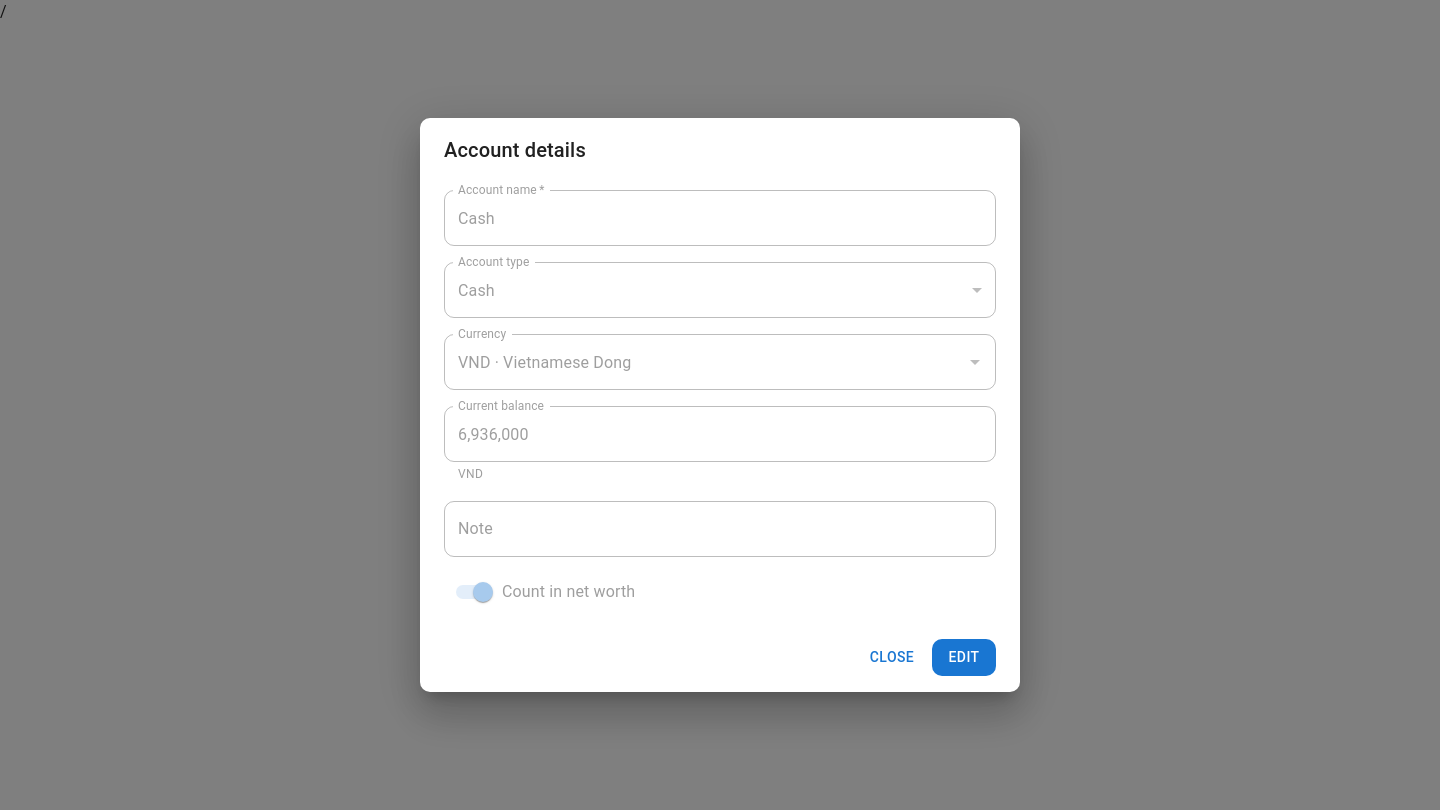
Test: account details (waterflow#23) › Cancel after Edit goes back to the details, as they were
Click the button "Edit": (964, 657) [932,639,996,676]
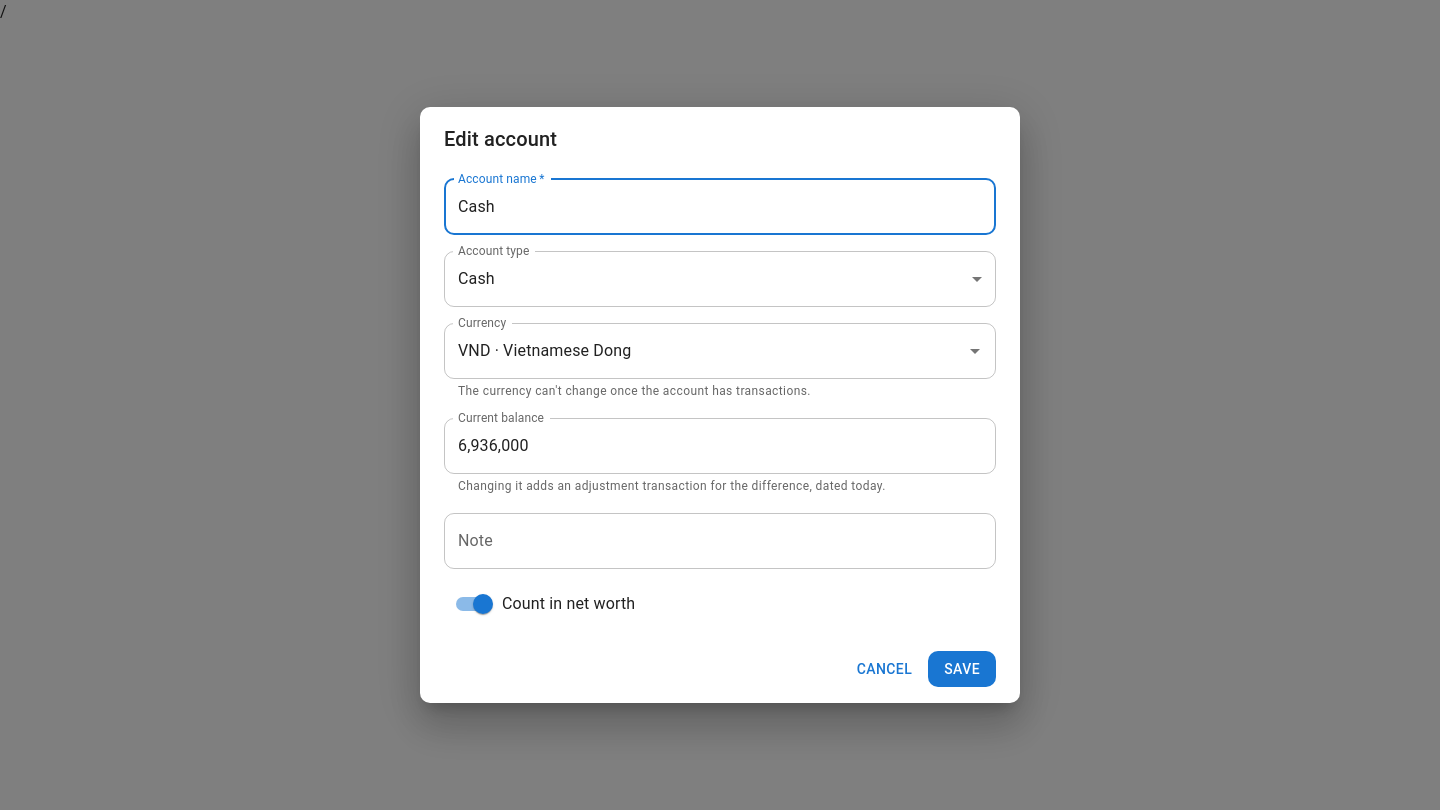
Replace the text in the field labelled "Account name *" with "Wallet": (720, 207) [444,179,996,235]
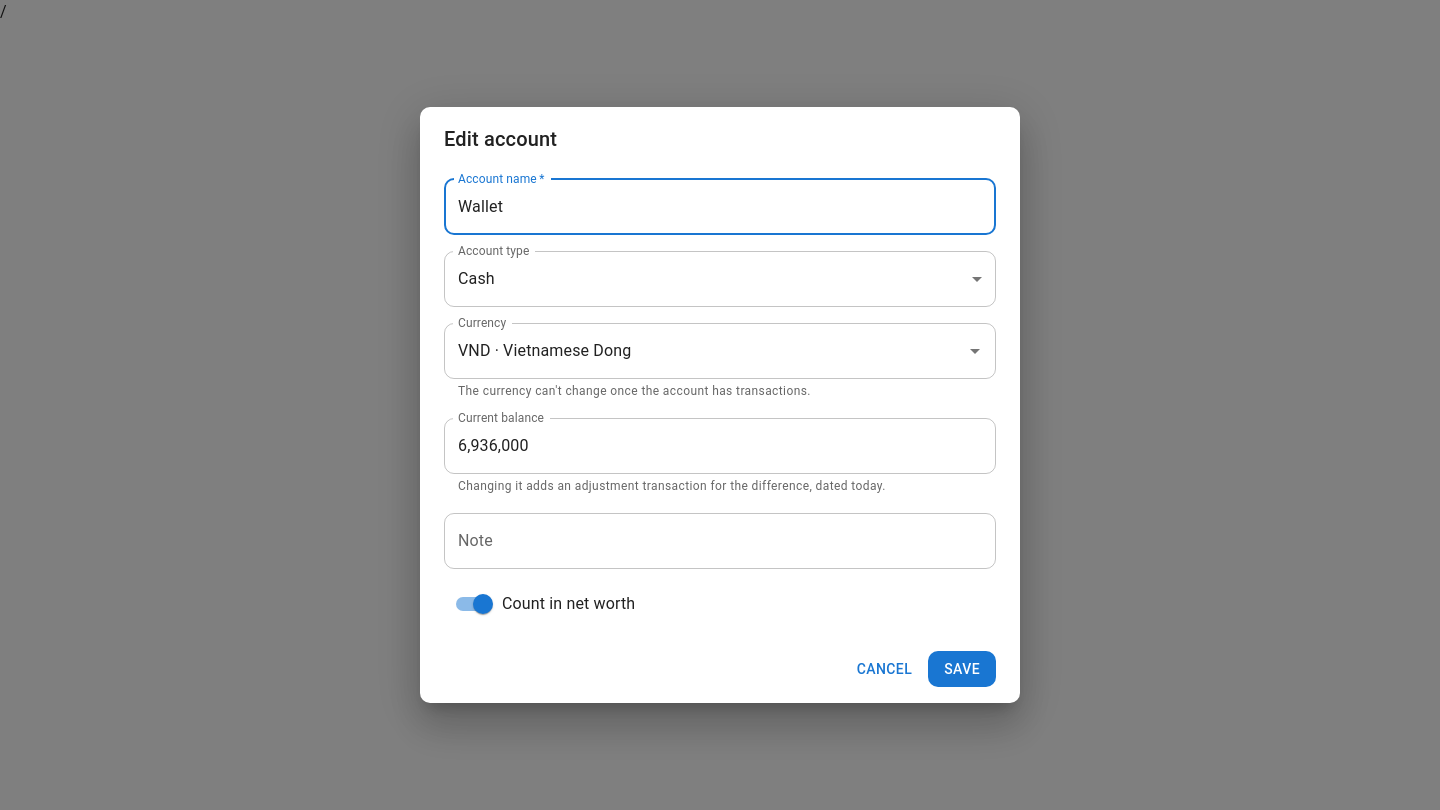
Click the button "Cancel": (884, 669) [849,651,920,687]
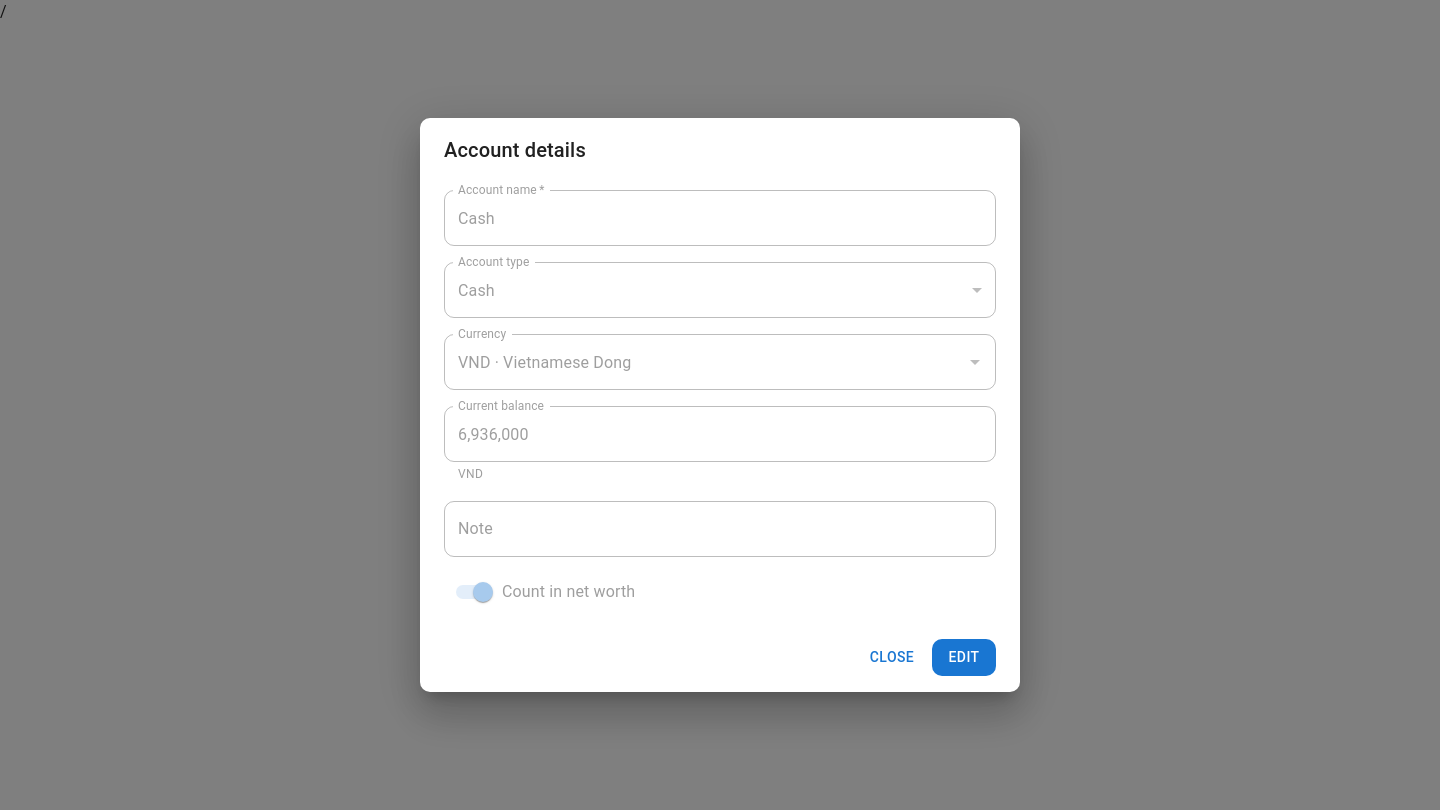
Expected: the field labelled "Account name *" holds "Cash", [444,190,996,246]
Expected: the field labelled "Account name *" is disabled, [444,190,996,246]
